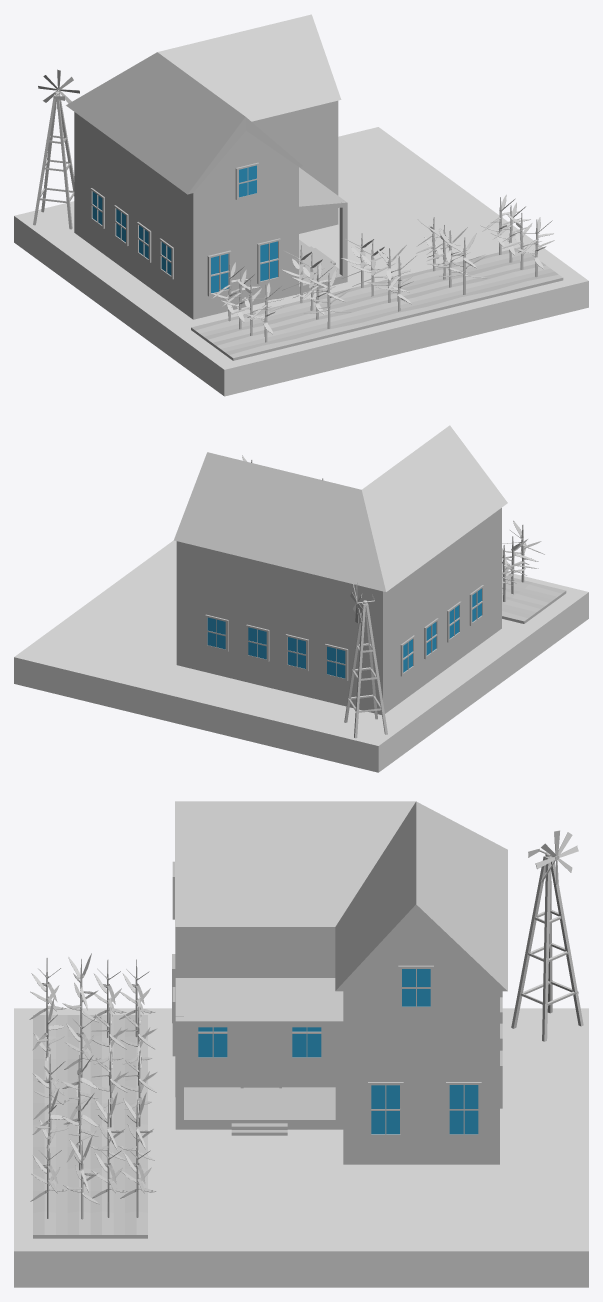
File: farmhouse.fbx
3 renders of one model, top to bottom at view 1: azimuth 30°, elevation 25°; view 2: azimuth 150°, elevation 25°; view 3: azimuth 270°, elevation 25°, orthographic. The views are drawn at different scales.
Visible parts, largest first — view 1: base, Walls, roof, Ground, Corn, porch, Windmill, Sm.Windows, roof.001, Window.pane.004, Window.pane.005, Windows.004 (+1 smaller); view 2: base, Walls, roof, Sm.Windows, Windmill, Ground, Corn, Sm.Window.pane.002, Sm.Window.pane.000, Sm.Window.pane.004, Sm.Window.pane.003; view 3: base, roof, Walls, Ground, porch, Corn, Windmill, roof.001, Wood.door, Window.pane, Window.pane.001, Sm.Windows (+6 smaller).
Boxes of the visible parts, box(x1,y1,x2,y2) form: base: box(14, 127, 588, 396); Walls: box(74, 100, 338, 319); roof: box(66, 14, 341, 194); Ground: box(191, 247, 563, 360); Corn: box(210, 194, 554, 342); porch: box(299, 167, 347, 293); Windmill: box(33, 89, 74, 229); Sm.Windows: box(90, 188, 173, 279); roof.001: box(188, 117, 303, 194); Window.pane.004: box(260, 241, 277, 281); Window.pane.005: box(211, 254, 228, 292); Windows.004: box(257, 238, 280, 284); base: box(14, 540, 588, 772); Walls: box(176, 508, 501, 714); roof: box(174, 425, 507, 591); Sm.Windows: box(205, 585, 483, 680); Windmill: box(344, 594, 387, 738); Ground: box(502, 575, 566, 623); Corn: box(242, 455, 544, 601); Sm.Window.pane.002: box(248, 627, 266, 659); Sm.Window.pane.000: box(207, 617, 225, 649); Sm.Window.pane.004: box(327, 646, 345, 678); Sm.Window.pane.003: box(288, 637, 305, 668); base: box(14, 1008, 588, 1287); roof: box(175, 801, 507, 990); Walls: box(175, 924, 499, 1164); Ground: box(33, 1015, 147, 1238); porch: box(175, 978, 343, 1135); Corn: box(29, 953, 157, 1219); Windmill: box(511, 848, 583, 1041); roof.001: box(335, 904, 507, 991); Wood.door: box(243, 1027, 279, 1087); Window.pane: box(449, 1085, 478, 1134); Window.pane.001: box(371, 1085, 399, 1134); Sm.Windows: box(398, 965, 502, 1108).
Size of the model in its own units: 400 by 228 by 400.
